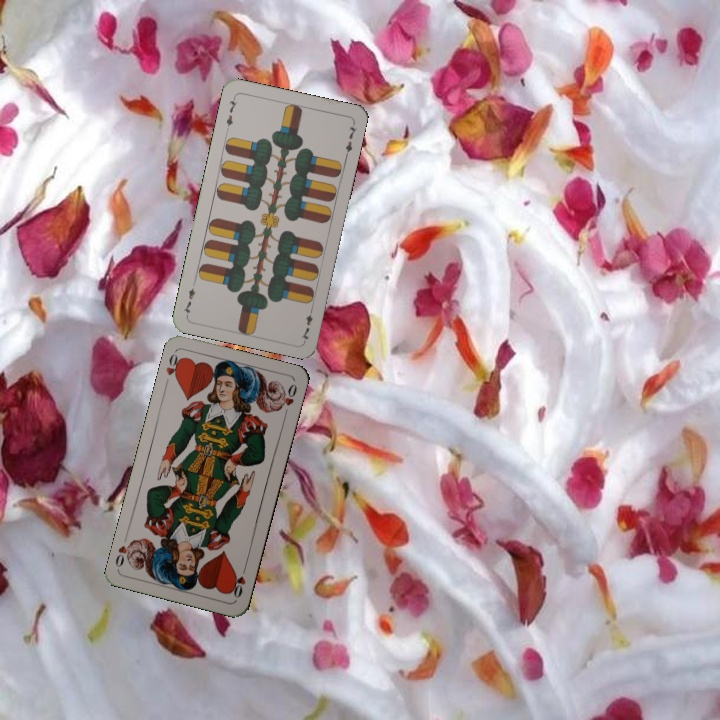E7: (297, 303, 316, 342), (222, 93, 240, 133)
HO: (161, 348, 185, 388), (227, 562, 249, 601)
